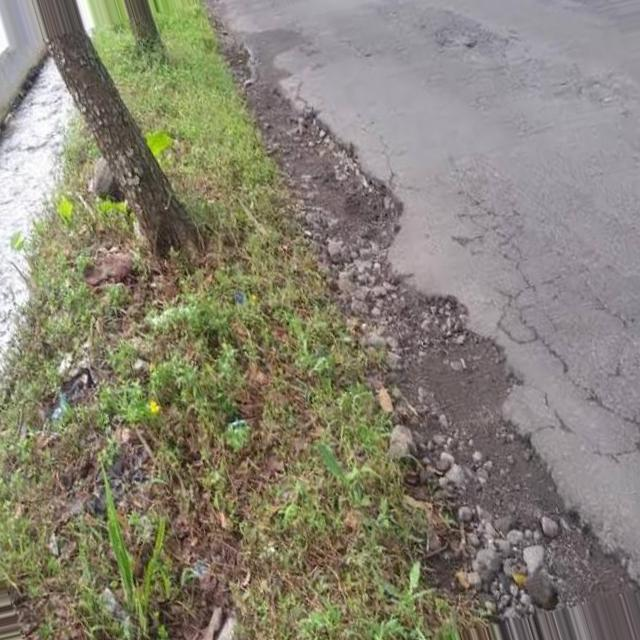Pinggir: (220, 46, 640, 605)
